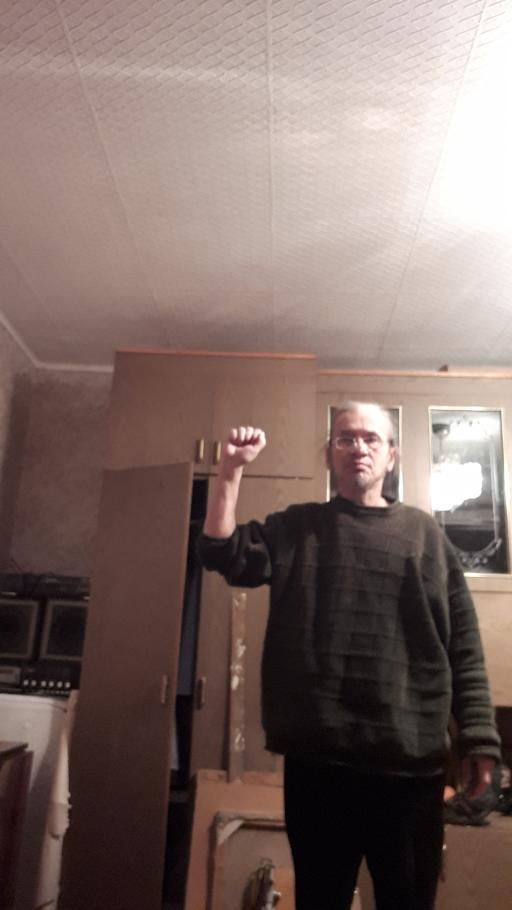fist: (219, 423, 271, 469)
no_gesture: (454, 748, 500, 803)
